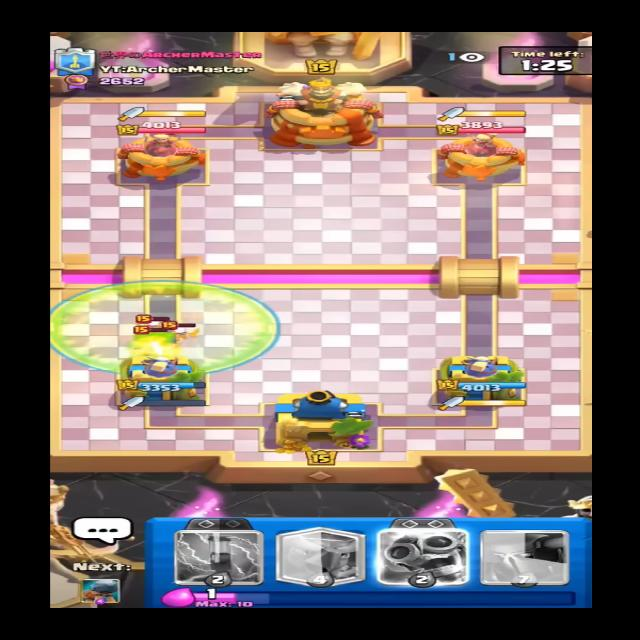skeleton: (173, 321, 200, 340), (138, 314, 164, 330)
